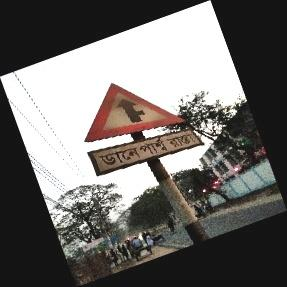Side-road-right: (84, 83, 202, 178)
